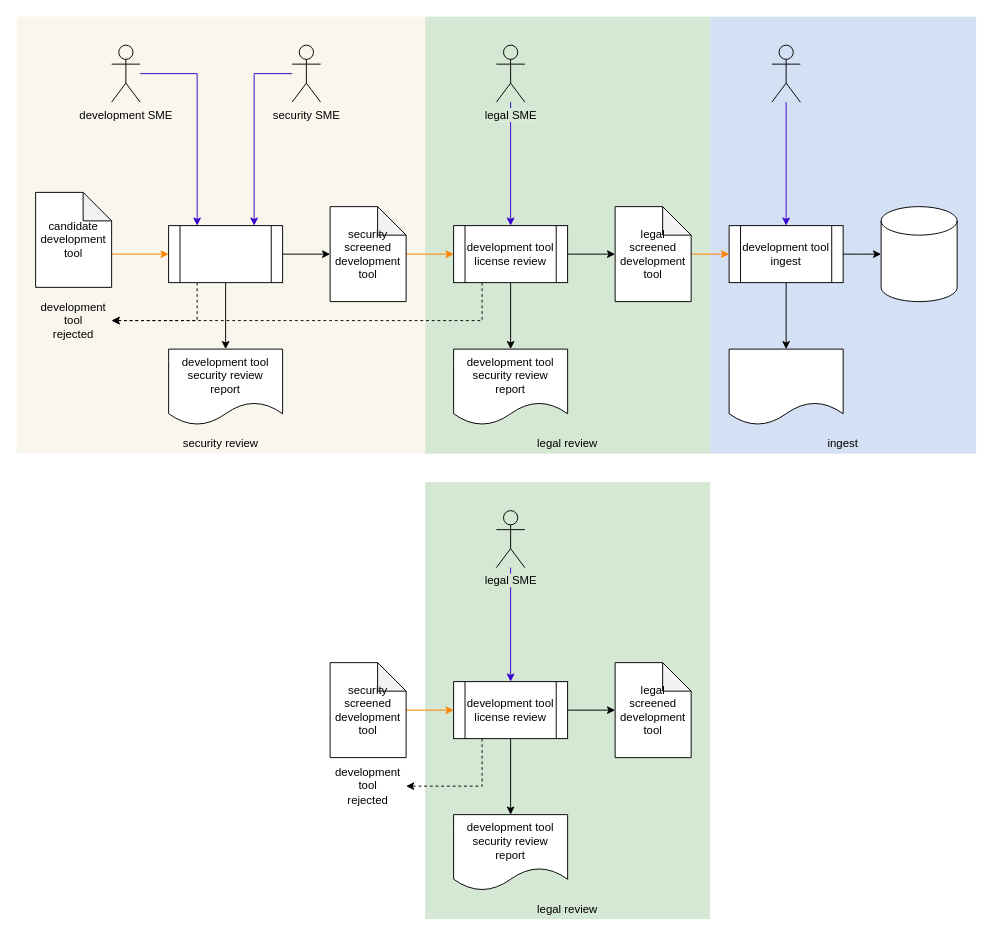
This 992x935 diagram has some shape labels left out. The shapes that lost their labels are listed below. From the top down, each one's centre as x and y in pixels, then its label:
At point (785, 73): "devops SME".
At point (225, 254): "development tool security review".
At point (918, 254): "development tools and components database".
At point (785, 386): "development tool ingest report".
